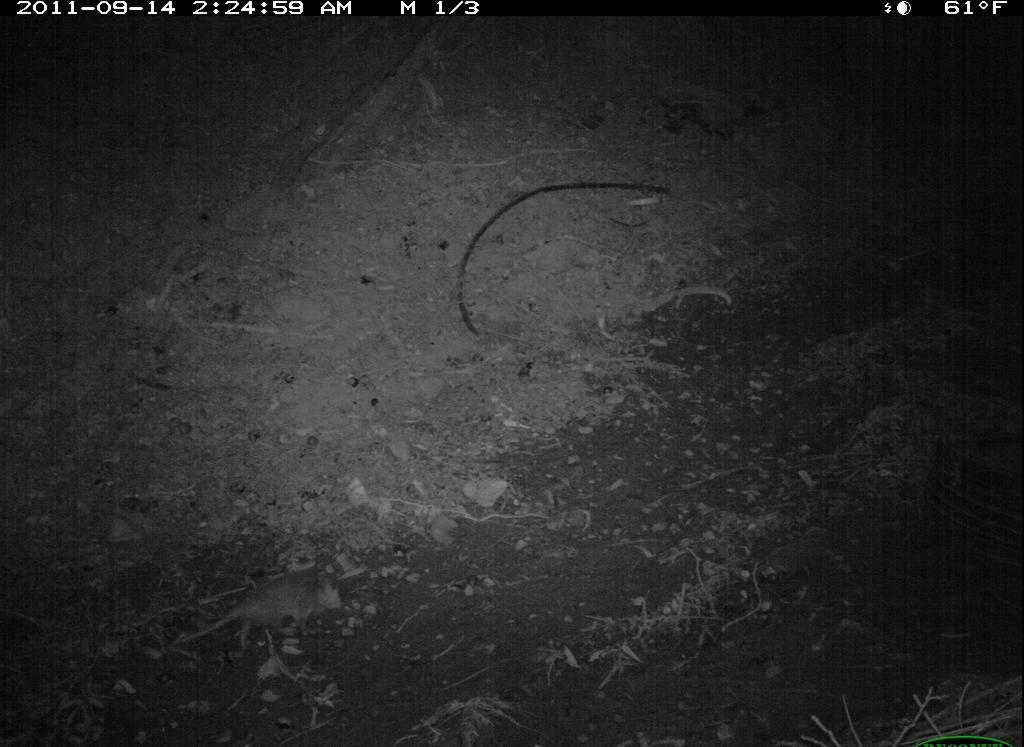opossum: (166, 566, 356, 664)
